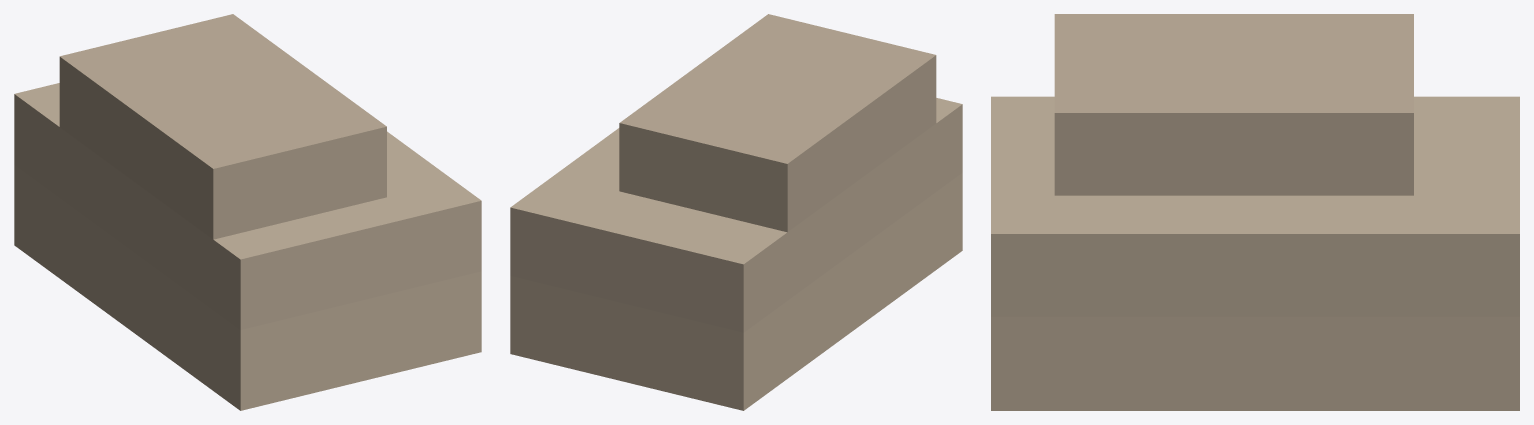
File: massing.glb
3 views of the same model, side by side, from view 1: azimuth 30°, elevation 25°; view 2: azimuth 150°, elevation 25°; view 3: azimuth 270°, elevation 25° (orthographic). The views are drawn at different scales.
Visible parts, largest first — view 1: main/floor3/0/0, main/floor2/0/0, main/floor1/0/0; view 2: main/floor3/0/0, main/floor2/0/0, main/floor1/0/0; view 3: main/floor2/0/0, main/floor3/0/0, main/floor1/0/0.
Boxes of the visible parts, <box> form: main/floor3/0/0: <box>59,14,386,239</box>; main/floor2/0/0: <box>14,83,481,329</box>; main/floor1/0/0: <box>14,165,481,410</box>; main/floor3/0/0: <box>619,14,936,232</box>; main/floor2/0/0: <box>510,98,962,332</box>; main/floor1/0/0: <box>510,173,962,410</box>; main/floor2/0/0: <box>991,96,1519,316</box>; main/floor3/0/0: <box>1054,14,1413,195</box>; main/floor1/0/0: <box>991,316,1519,410</box>.
Size of the model in its own units: 10 by 8.8 by 16.25.
